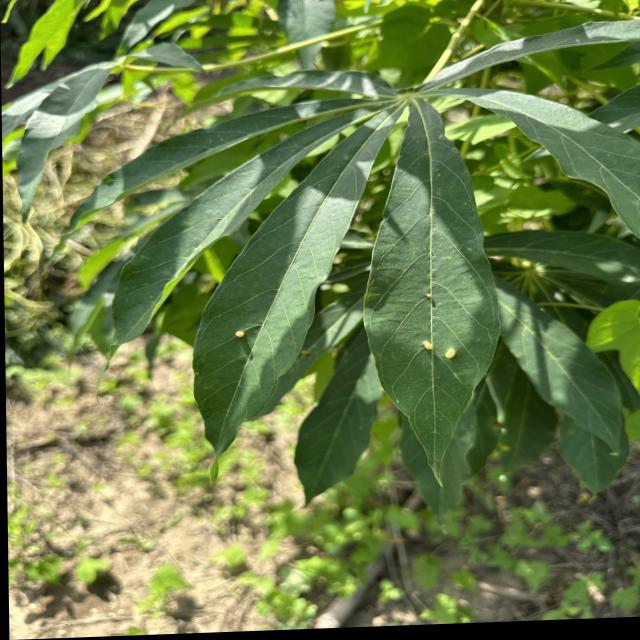Mosca: (411, 335, 467, 365), (213, 317, 261, 346)
